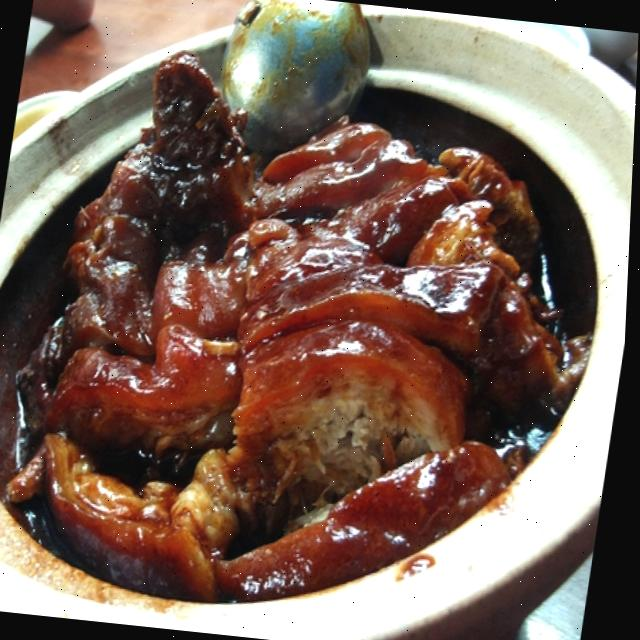汤锅炖物: (0, 2, 632, 640)
